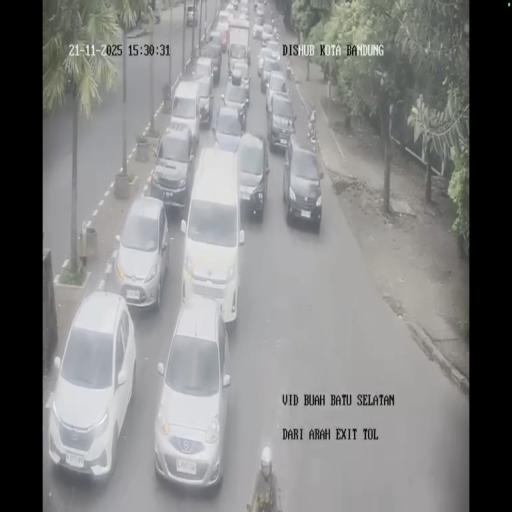car: (152, 298, 232, 488), (113, 194, 170, 309), (151, 124, 197, 212), (284, 138, 323, 228), (236, 130, 269, 219), (266, 86, 296, 152), (222, 74, 250, 130), (192, 72, 214, 127), (258, 51, 283, 95), (227, 40, 251, 84), (200, 40, 222, 82), (217, 9, 230, 35), (261, 23, 275, 45), (185, 4, 197, 26), (253, 0, 265, 18), (238, 12, 248, 26), (225, 3, 235, 15)
